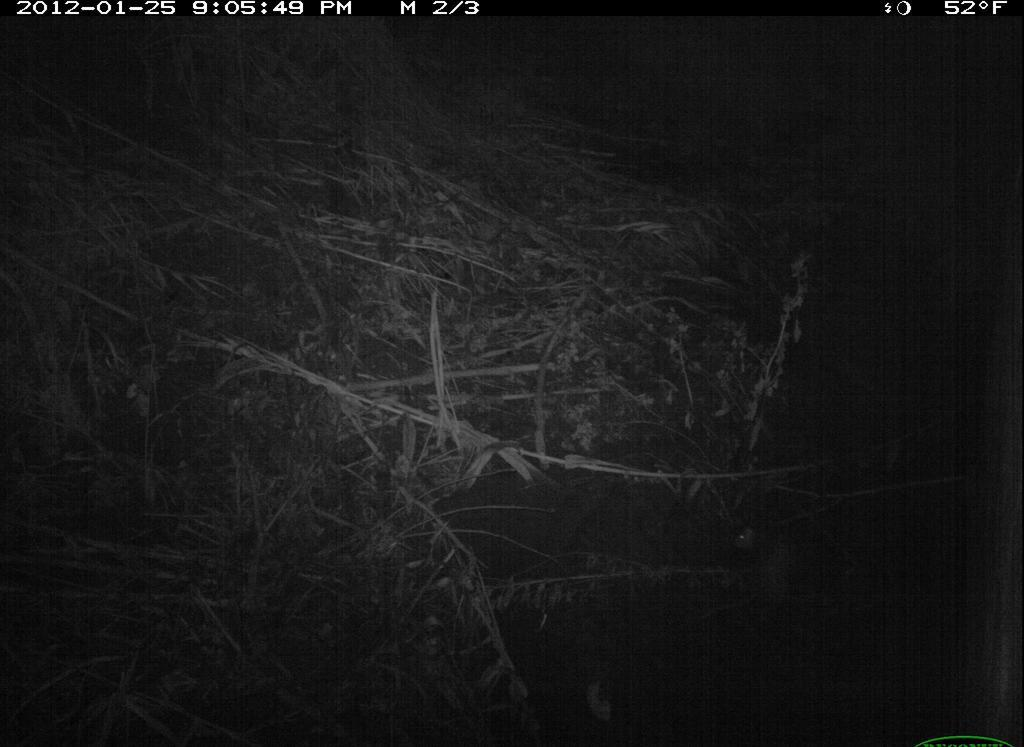opossum: (712, 504, 816, 642)
